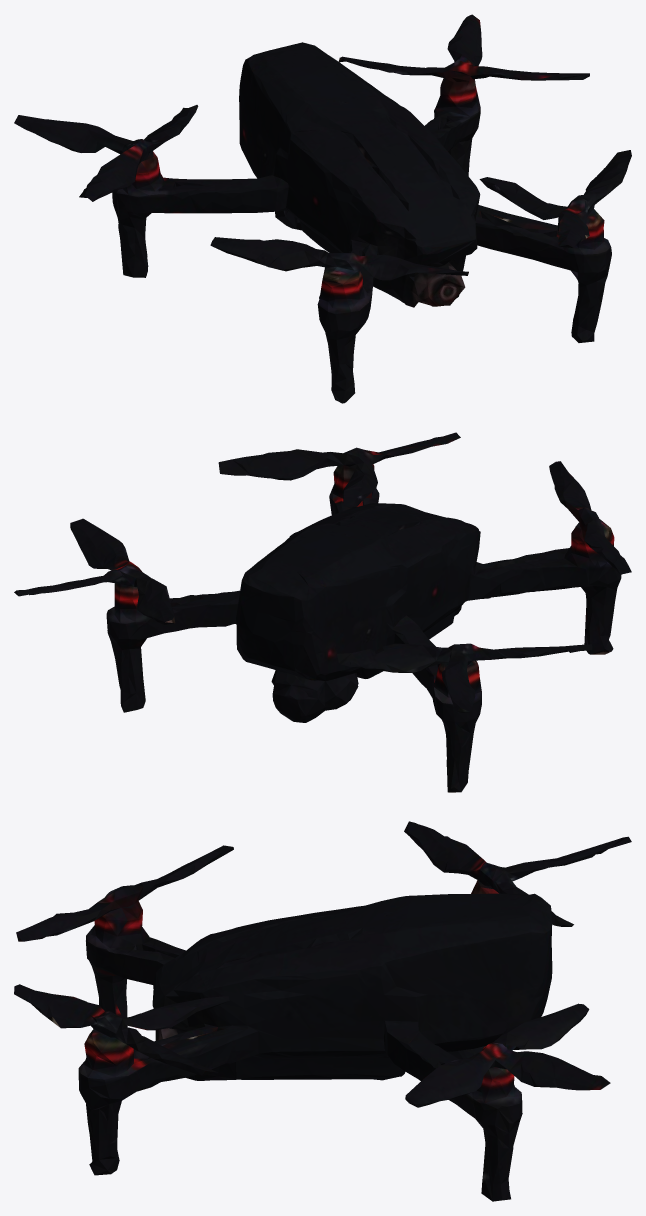
Rendered from air_drone_quad.glb.
The picture shows the model from 3 angles, top to bottom: view 1: azimuth 30°, elevation 25°; view 2: azimuth 150°, elevation 25°; view 3: azimuth 270°, elevation 25°; orthographic projection. The views are drawn at different scales.
Visible parts, largest first — view 1: air_drone_quad_tex; view 2: air_drone_quad_tex; view 3: air_drone_quad_tex.
Part boxes in pixels (x1,y1,x2,y2): air_drone_quad_tex: (14,14,631,403); air_drone_quad_tex: (14,432,631,792); air_drone_quad_tex: (14,821,631,1201).
Size of the model in its own units: 0.85 by 0.2931 by 0.7908.
1 material, 1 textured.
